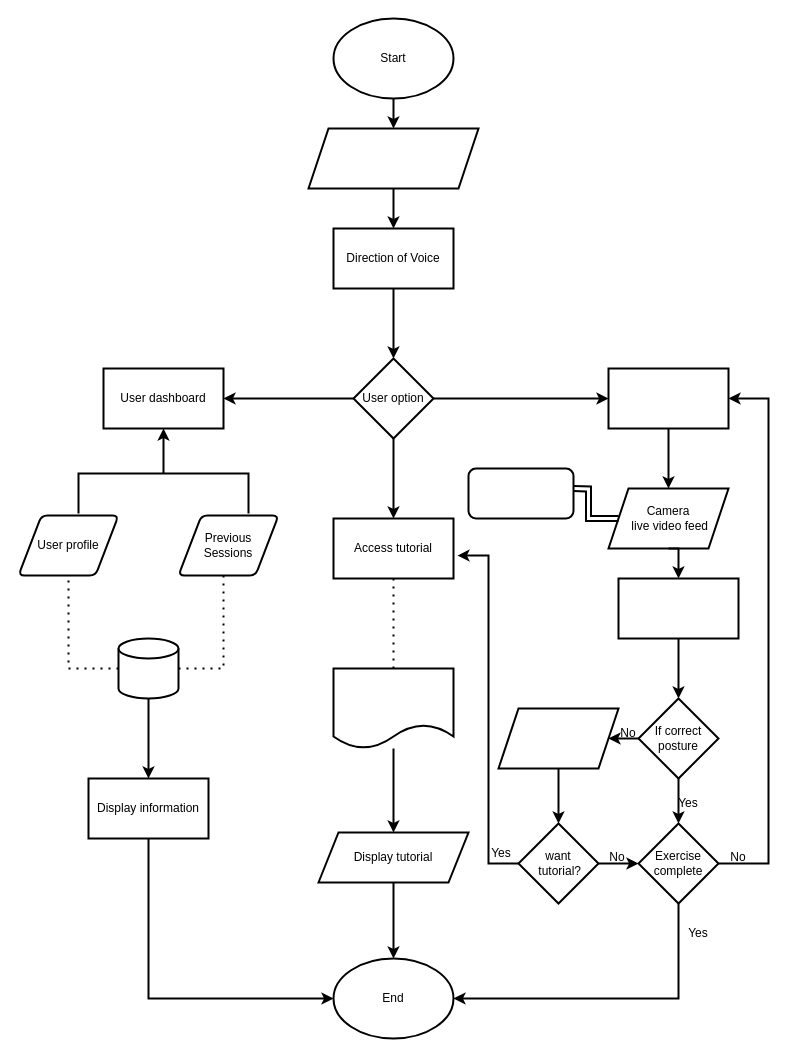
Image size: 794x1056. Some labels were removed from this diagram. The shapes that lost their labels are listed below. From the top down, each one's box as (x1, y1, x2, y2) in pixels, then its label:
(307, 127, 479, 189): Voice
(607, 367, 729, 429): Monitor exercise
(467, 467, 574, 519): rPPG
(617, 577, 739, 639): Pose estimation
(117, 637, 179, 699): SQL Database
(332, 667, 454, 749): Tutorials
(497, 707, 619, 769): Alert "incorrect posture"
